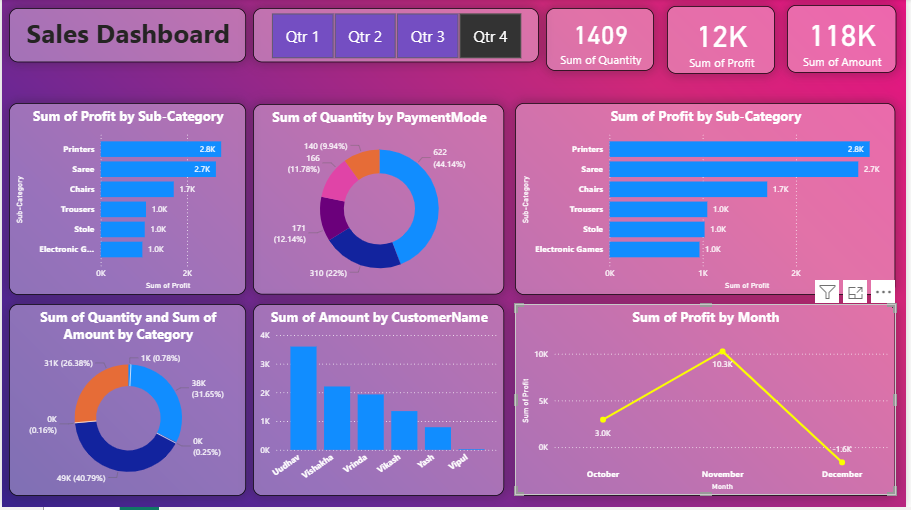

The dashboard page shown, as its layout file describes it:
{"tool":"powerbi","page":{"name":"Page 1","canvas":[1280,720],"ordinal":0},"visuals":[{"type":"textbox","box":[9.4,12.1,336.3,76.7],"z":0},{"type":"lineChart","fields":{"Category":["Orders.Order Date.Variation.Date Hierarchy.Month"],"Y":["Sum(Details.Profit)"]},"box":[727.7,431.8,539.4,271.7],"z":1000},{"type":"barChart","fields":{"Y":["Sum(Details.Profit)"],"Category":["Details.Sub-Category"]},"box":[727.7,148,539.4,271.7],"z":2000},{"type":"donutChart","fields":{"Y":["Sum(Details.Quantity)","Sum(Details.Amount)"],"Category":["Details.Category"]},"box":[9.4,431.8,336.3,271.7],"z":3000},{"type":"donutChart","fields":{"Y":["Sum(Details.Quantity)"],"Category":["Details.PaymentMode"]},"box":[355.1,149.3,356.5,270.4],"z":4000},{"type":"card","fields":{"Values":["Sum(Details.Amount)"]},"box":[1112.4,8.1,154.7,95.5],"z":5000},{"type":"card","fields":{"Values":["Sum(Details.Profit)"]},"box":[942.9,9.4,153.3,95.5],"z":6000},{"type":"card","fields":{"Values":["Sum(Details.Quantity)"]},"box":[770.7,12.1,153.3,88.8],"z":7000},{"type":"barChart","fields":{"Y":["Sum(Details.Profit)"],"Category":["Details.Sub-Category"]},"box":[9.4,148,336.3,271.7],"z":8000},{"type":"lineStackedColumnComboChart","fields":{"Category":["Orders.CustomerName"],"Y":["Sum(Details.Amount)"]},"box":[355.1,431.8,356.5,271.7],"z":9000},{"type":"slicer","fields":{"Values":["Orders.Order Date.Variation.Date Hierarchy.Quarter"]},"box":[355.1,12.1,404.9,76.7],"z":10000}]}

Visuals, with their boxes in screenshot pixels (x1, y1, x2, y2), scaled from the page's 1280x720 canvas onto the 911x510 screenshot:
textbox: [x1=7, y1=9, x2=246, y2=63]
lineChart - Orders.Order Date.Variation.Date Hierarchy.Month x Sum(Details.Profit): [x1=518, y1=306, x2=902, y2=498]
barChart - Sum(Details.Profit) x Details.Sub-Category: [x1=518, y1=105, x2=902, y2=297]
donutChart - Sum(Details.Quantity) x Sum(Details.Amount): [x1=7, y1=306, x2=246, y2=498]
donutChart - Sum(Details.Quantity) x Details.PaymentMode: [x1=253, y1=106, x2=506, y2=297]
card - Sum(Details.Amount): [x1=792, y1=6, x2=902, y2=73]
card - Sum(Details.Profit): [x1=671, y1=7, x2=780, y2=74]
card - Sum(Details.Quantity): [x1=549, y1=9, x2=658, y2=71]
barChart - Sum(Details.Profit) x Details.Sub-Category: [x1=7, y1=105, x2=246, y2=297]
lineStackedColumnComboChart - Orders.CustomerName x Sum(Details.Amount): [x1=253, y1=306, x2=506, y2=498]
slicer - Orders.Order Date.Variation.Date Hierarchy.Quarter: [x1=253, y1=9, x2=541, y2=63]
